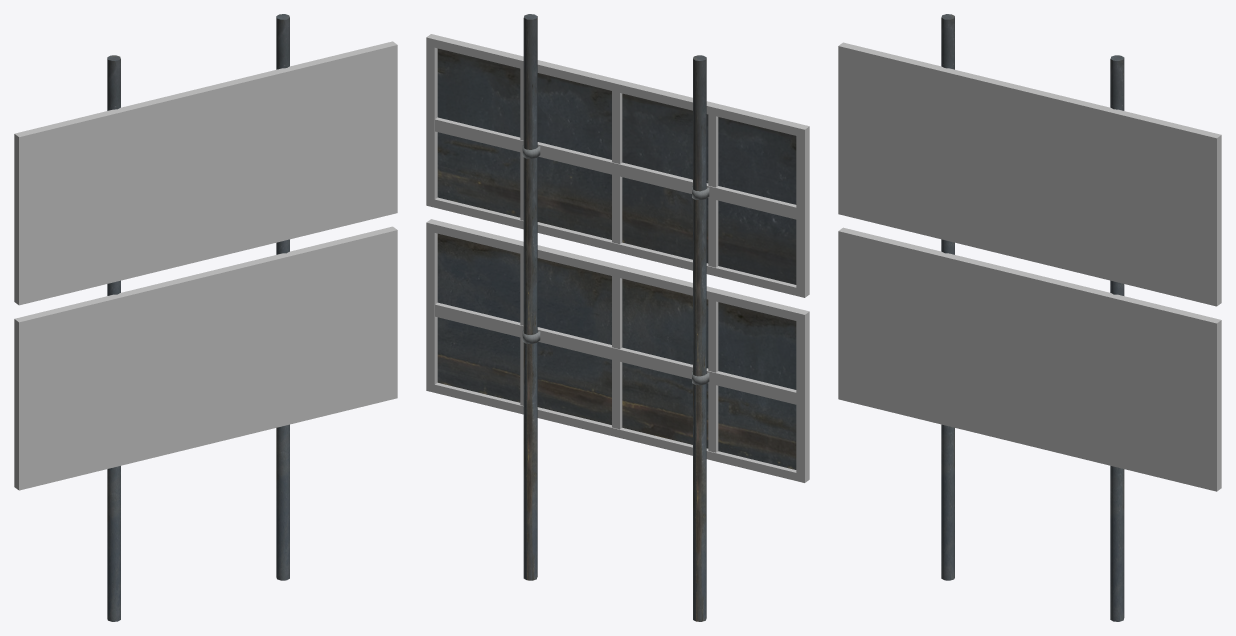
The model's file is OutDoor-C2-2.fbx.
The picture shows the model from 3 angles, left to right: view 1: azimuth 30°, elevation 25°; view 2: azimuth 150°, elevation 25°; view 3: azimuth 330°, elevation 25°; orthographic projection.
Parts seen in each view (by area): view 1: Cube; view 2: Cube; view 3: Cube.
Boxes of the visible parts, <box> form: Cube: <box>14,14,397,621</box>; Cube: <box>426,14,809,621</box>; Cube: <box>838,14,1221,621</box>.
Size of the model in its own units: 610 by 864 by 33.18.
